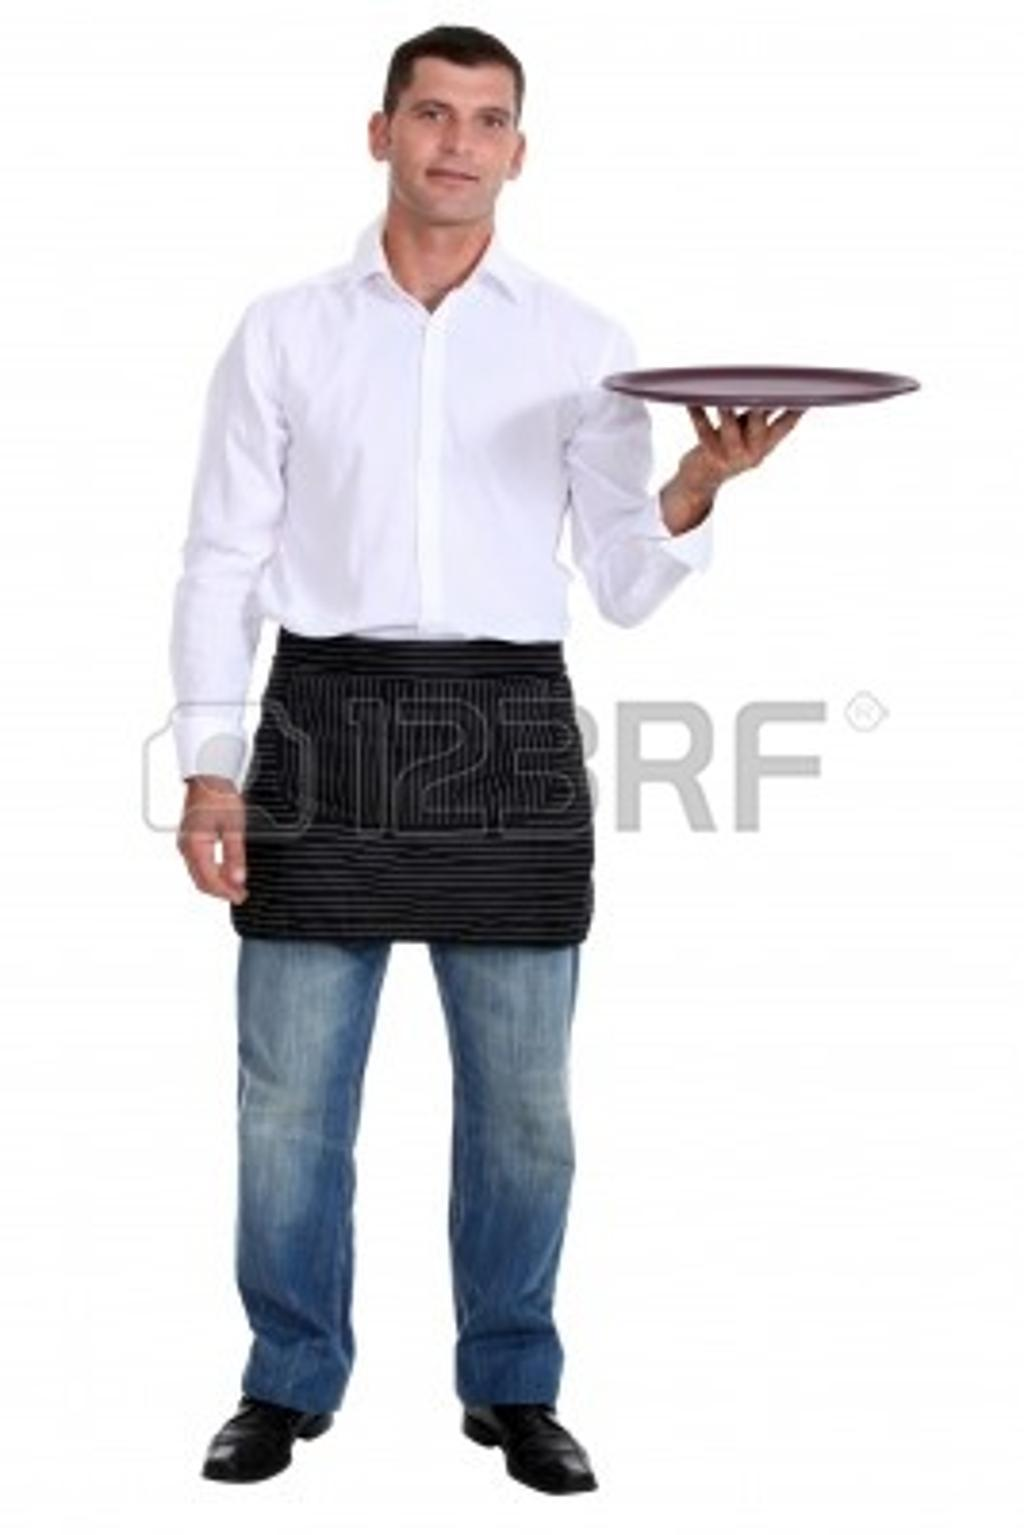face: (393, 58, 519, 226)
